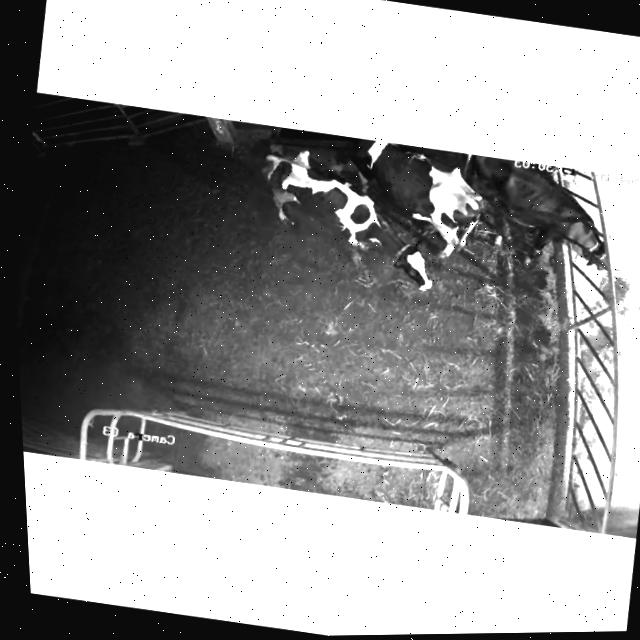stand: (262, 149, 433, 290)
